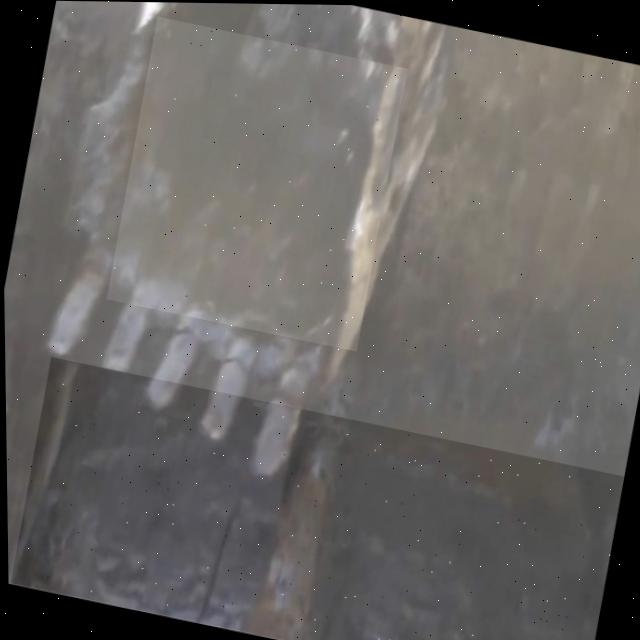spillage: (9, 357, 623, 640), (107, 17, 407, 350)
